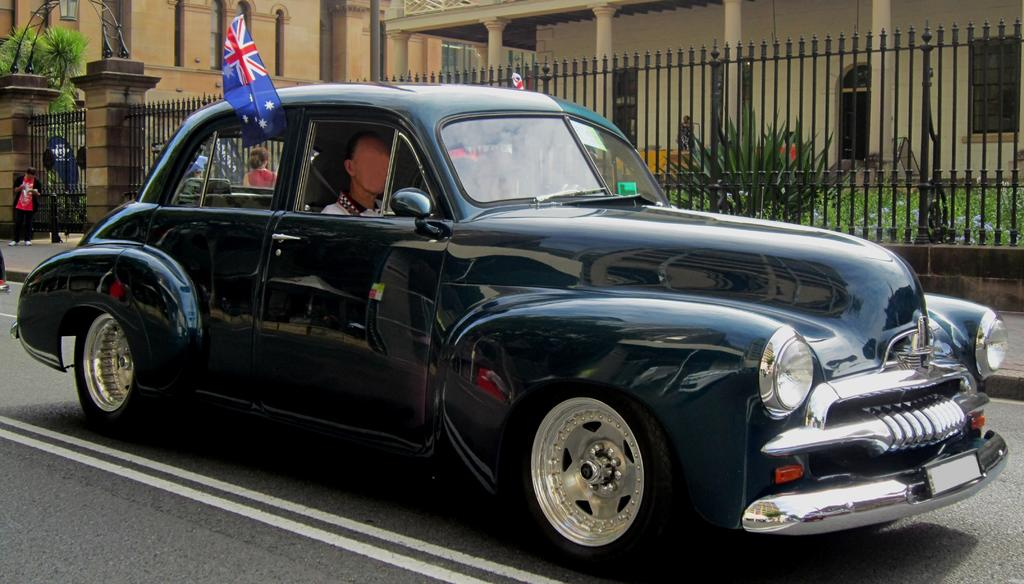Person: (319, 129, 390, 215), (6, 167, 42, 247), (472, 149, 525, 202), (242, 146, 277, 188), (675, 114, 695, 151), (0, 250, 6, 285)
